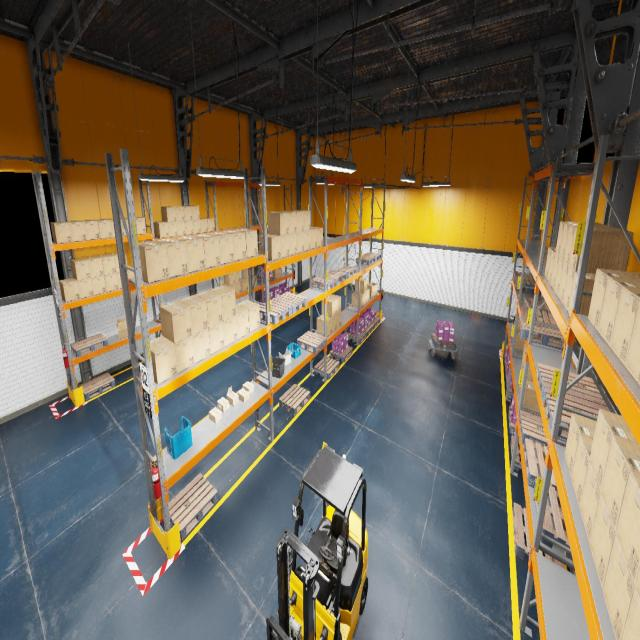box: (589, 409, 638, 492), (600, 436, 640, 532), (602, 534, 634, 640), (588, 268, 640, 330), (569, 227, 633, 273), (598, 276, 640, 346), (616, 471, 640, 586), (610, 286, 640, 367), (590, 493, 615, 590), (564, 225, 621, 266), (565, 413, 596, 478), (559, 223, 612, 261), (556, 221, 604, 257), (580, 461, 600, 544), (143, 336, 177, 384), (571, 434, 593, 508), (154, 238, 188, 278), (160, 301, 192, 343), (139, 240, 169, 282), (626, 299, 640, 385), (178, 295, 208, 335), (568, 272, 595, 316), (175, 236, 205, 272), (194, 290, 223, 327), (192, 234, 220, 269), (622, 588, 640, 639), (209, 286, 236, 320), (206, 232, 234, 264), (220, 230, 247, 261), (236, 300, 260, 332), (174, 336, 194, 373), (233, 229, 258, 258), (522, 380, 541, 416), (193, 328, 210, 364), (258, 234, 280, 260), (208, 322, 224, 354), (267, 212, 289, 235), (59, 278, 80, 302), (563, 267, 574, 311), (50, 222, 72, 243), (236, 305, 249, 339), (71, 258, 91, 280), (224, 315, 238, 346), (84, 256, 104, 277), (278, 211, 296, 234), (558, 262, 568, 303), (66, 221, 86, 241), (286, 210, 304, 232), (117, 316, 135, 338), (554, 257, 564, 296), (544, 247, 556, 279), (81, 220, 100, 240), (98, 254, 116, 275), (316, 314, 332, 336), (110, 253, 128, 272), (95, 219, 113, 238), (294, 210, 310, 231), (106, 219, 124, 237), (78, 278, 94, 298), (523, 350, 533, 381), (550, 253, 558, 290), (322, 297, 336, 317), (548, 250, 556, 284), (327, 294, 341, 313), (92, 276, 106, 295), (105, 272, 118, 292), (153, 222, 169, 238), (310, 226, 322, 247), (514, 330, 525, 352), (226, 386, 238, 406), (161, 206, 176, 222), (116, 270, 128, 289), (208, 407, 222, 423), (351, 292, 364, 308), (217, 396, 229, 412), (120, 217, 130, 236), (281, 235, 289, 258), (202, 218, 215, 232), (355, 278, 367, 293), (172, 206, 184, 221), (289, 233, 297, 255), (136, 217, 146, 234), (238, 388, 250, 402), (296, 232, 304, 253), (188, 206, 200, 220), (242, 381, 254, 394), (635, 569, 640, 600), (367, 283, 378, 297), (224, 272, 235, 285), (356, 292, 366, 305), (310, 228, 316, 249), (183, 206, 192, 220), (177, 221, 186, 235), (168, 222, 177, 236), (304, 230, 310, 250), (272, 267, 282, 279), (200, 218, 208, 232), (185, 220, 193, 234), (240, 278, 248, 291), (192, 220, 200, 233), (522, 344, 526, 369), (336, 311, 341, 329), (235, 281, 241, 294), (332, 314, 336, 332), (128, 266, 134, 278), (252, 275, 257, 287), (242, 268, 248, 278), (235, 270, 240, 282), (230, 284, 236, 294), (512, 321, 515, 340), (520, 365, 522, 391), (244, 278, 248, 289), (517, 316, 520, 329), (218, 284, 230, 287), (367, 288, 369, 302), (513, 314, 516, 321), (520, 386, 521, 394)
forklift: (276, 445, 368, 639)
pallets: (542, 387, 610, 440), (512, 502, 564, 568), (168, 474, 218, 541), (534, 479, 572, 560), (536, 363, 607, 406), (524, 438, 558, 495), (520, 318, 564, 350), (79, 372, 115, 401), (519, 410, 547, 447), (279, 384, 310, 415), (70, 333, 108, 357), (259, 299, 292, 324), (272, 292, 307, 314), (297, 331, 327, 354), (521, 306, 557, 325), (314, 356, 340, 379), (522, 297, 550, 316), (514, 277, 542, 294), (431, 333, 456, 350), (511, 435, 522, 471), (330, 346, 353, 363), (312, 275, 338, 290), (322, 270, 347, 283), (337, 265, 357, 278), (348, 331, 368, 344), (508, 406, 516, 435), (514, 271, 534, 282), (356, 255, 376, 265), (506, 377, 514, 399), (364, 252, 382, 261), (362, 323, 373, 336), (257, 276, 274, 284), (369, 317, 380, 328), (505, 364, 508, 382), (504, 353, 507, 369), (158, 314, 160, 320)
